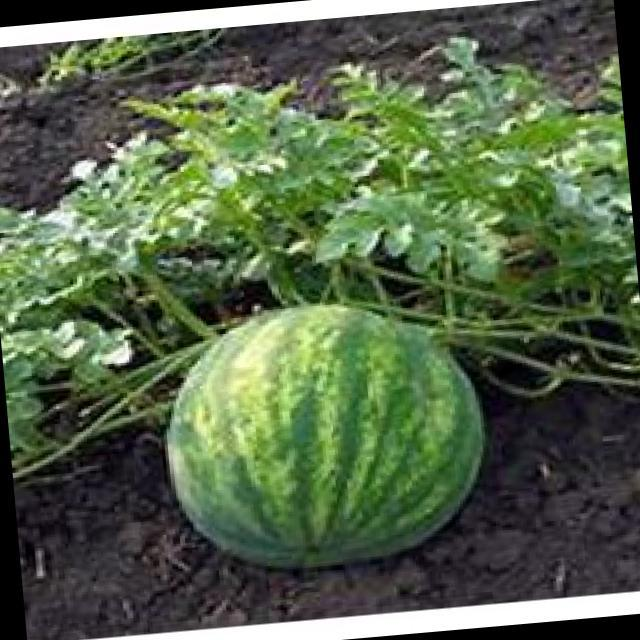watermelon: (166, 304, 485, 567)
